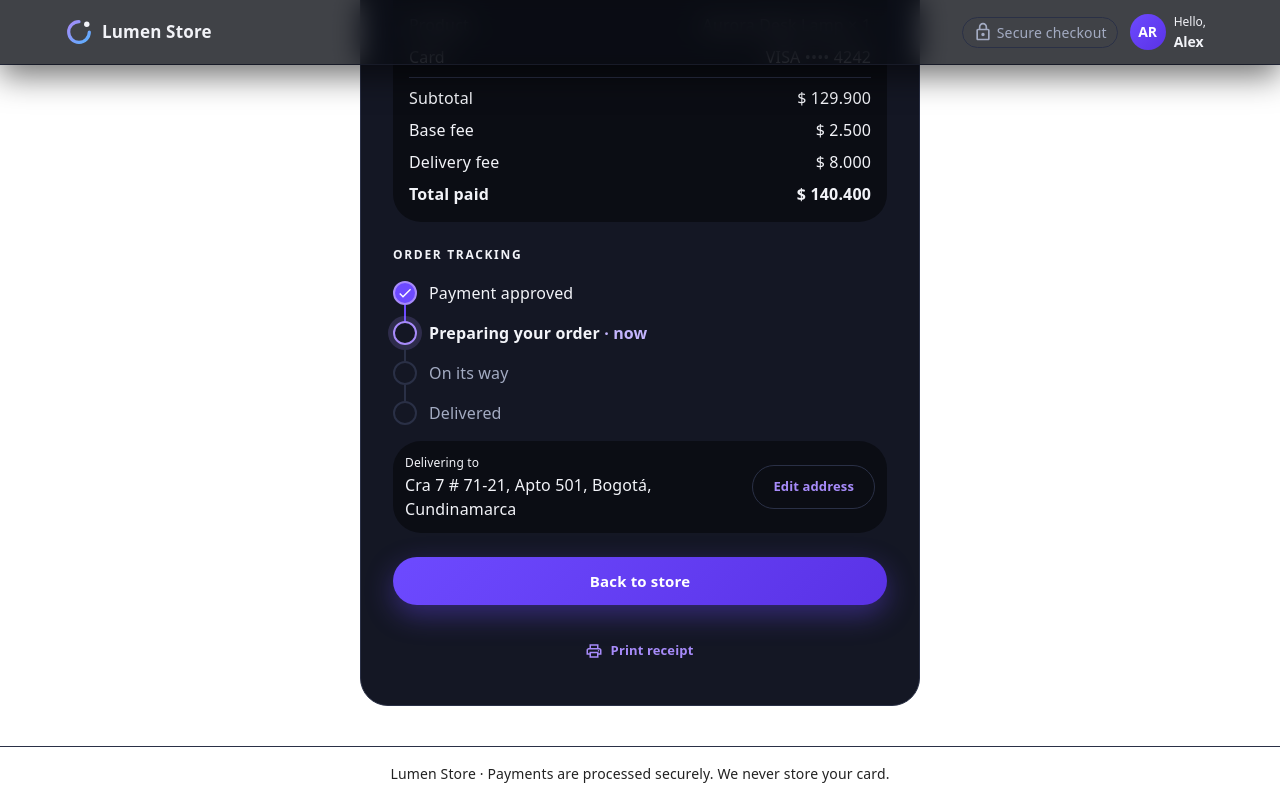
Scenario: order tracking on the status screen › AC-5: an invalid address is explained inline and nothing is sent
(page scrolled)
Click the button "Edit address" at [814, 487], box [752, 465, 875, 509]
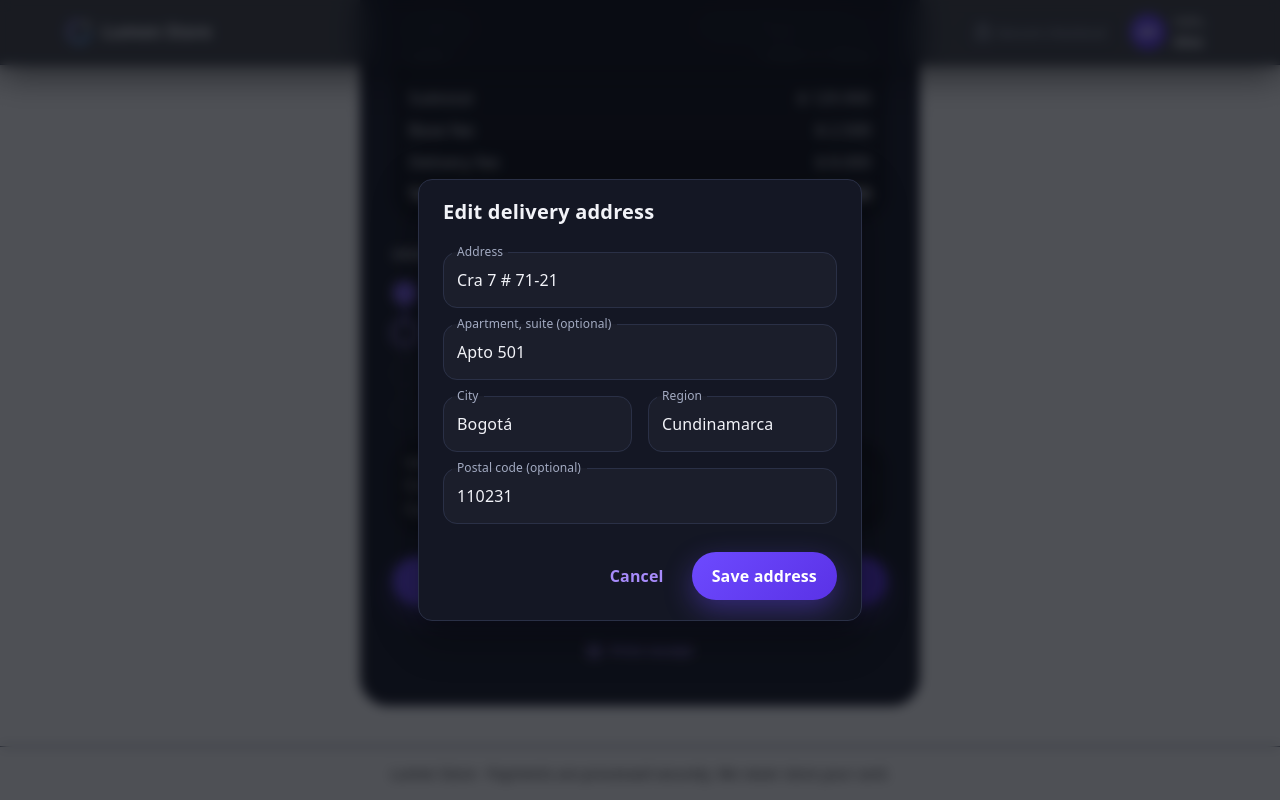
Clear the field labelled "City" at [538, 424], box [443, 396, 632, 452]
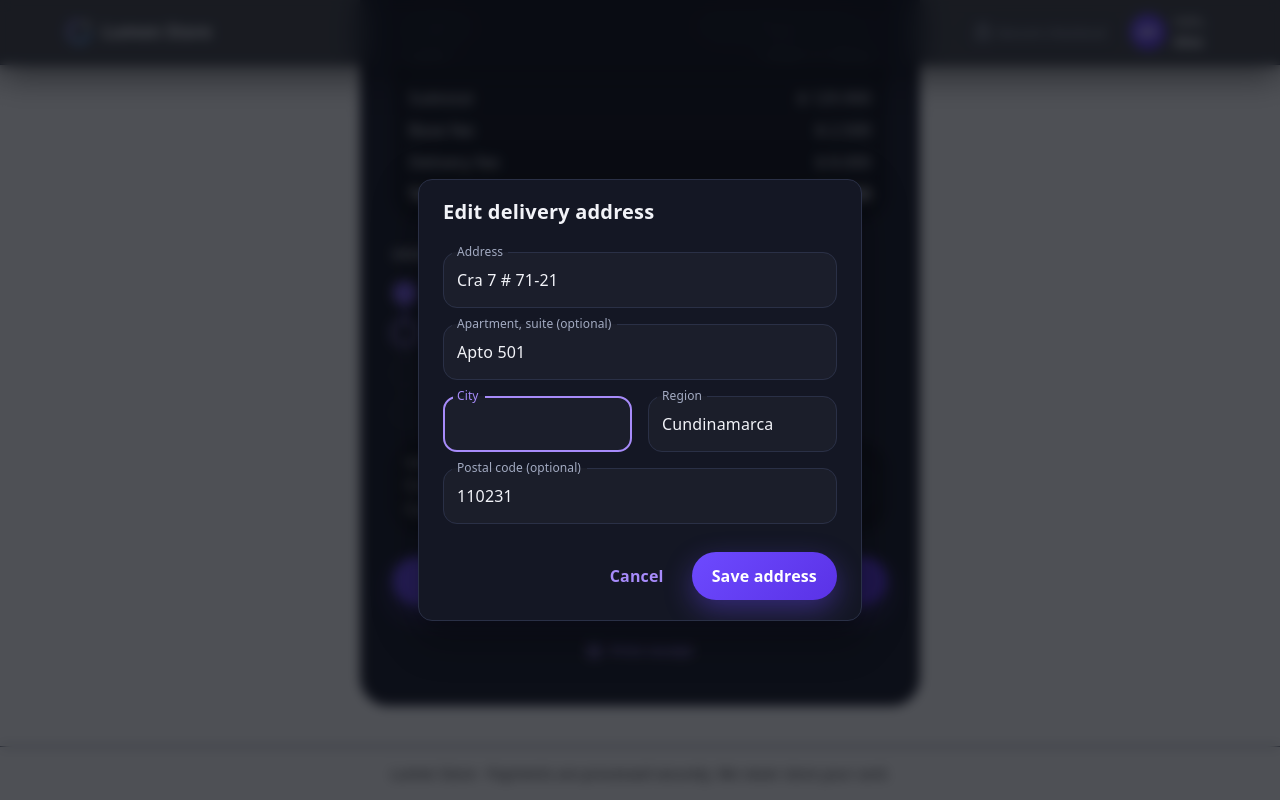
Click the button "Save address" at [764, 576], box [692, 552, 837, 600]
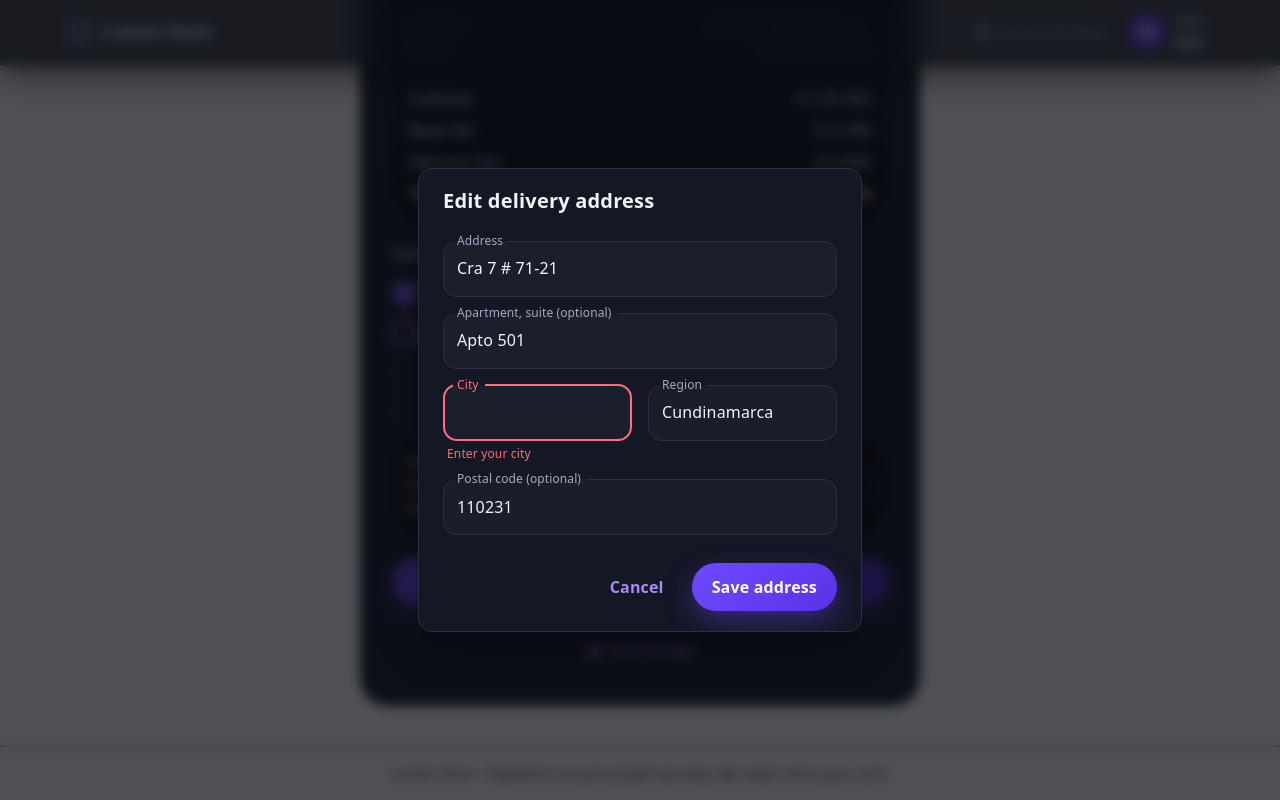
Result: the text "Enter your city" is shown at [447, 444, 531, 462]
